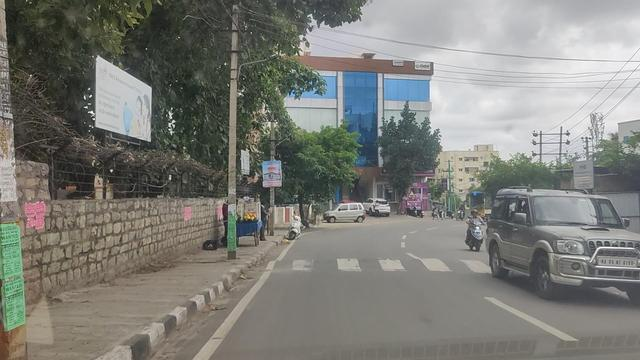LMV: (490, 188, 640, 292)
SpeedBump: (274, 255, 496, 274)
